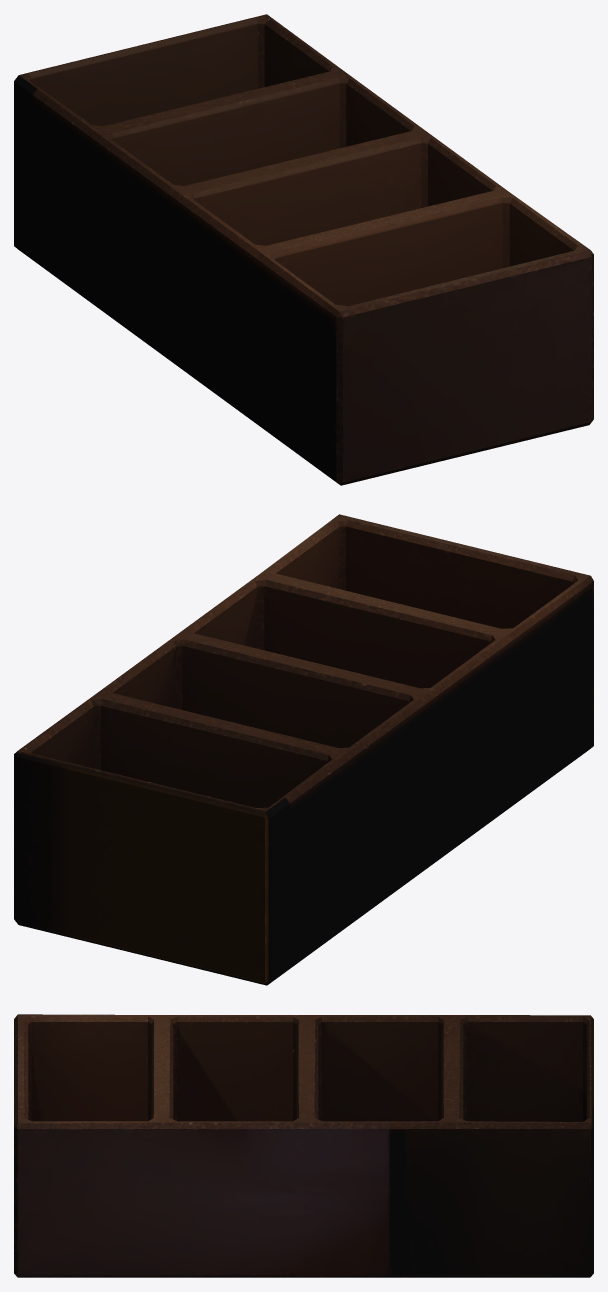
Rendered from Shelf.obj.
3 views of the same model, one above another, from view 1: azimuth 30°, elevation 25°; view 2: azimuth 150°, elevation 25°; view 3: azimuth 270°, elevation 25° (orthographic). The views are drawn at different scales.
Size of the model in its own units: 1.38 by 0.894 by 3.03.
Materials: 1 (1 with a texture image).
